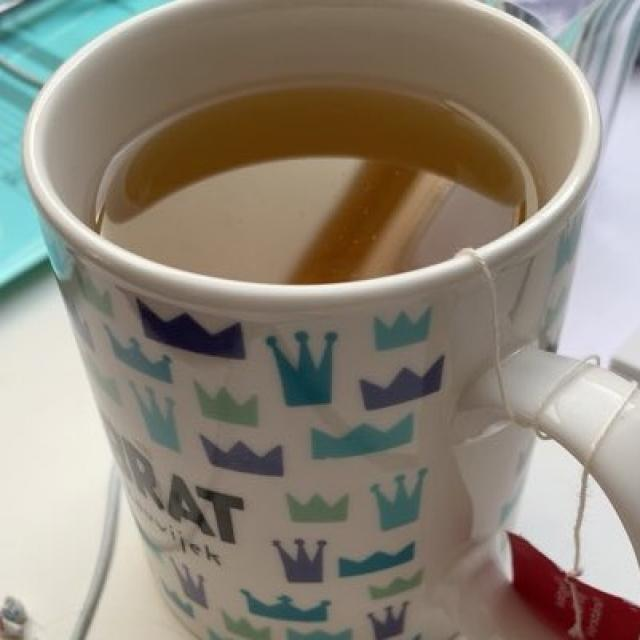tea: (93, 76, 531, 284)
